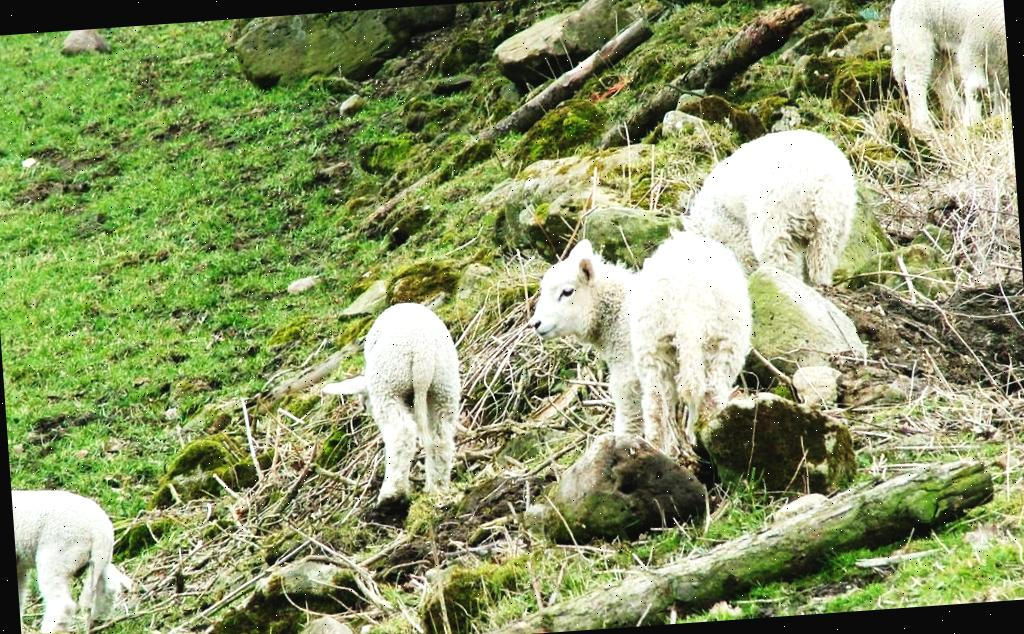Sheep: (514, 220, 766, 481), (664, 118, 872, 302), (340, 292, 480, 520), (10, 468, 132, 634), (870, 0, 1011, 134), (10, 475, 116, 634)
